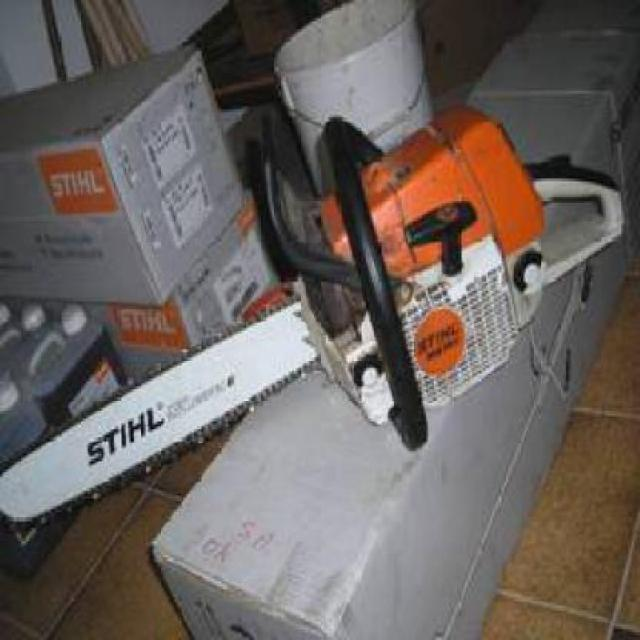Chainsaw: (0, 98, 628, 524)
